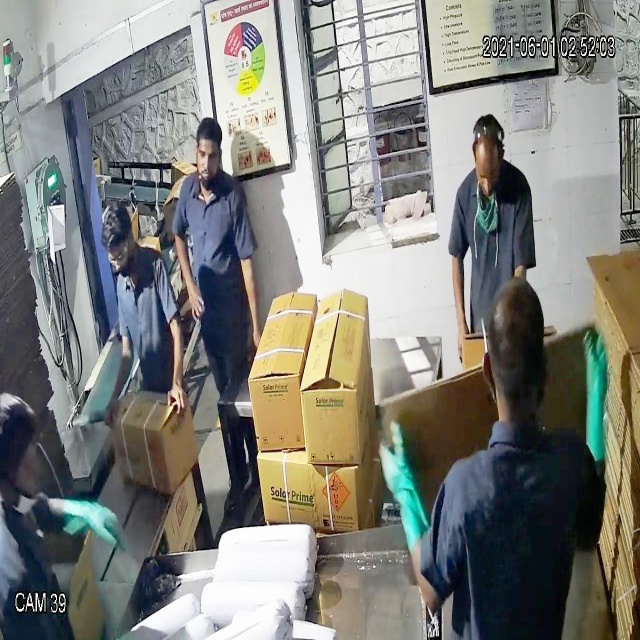Gafas: (98, 238, 134, 276)
